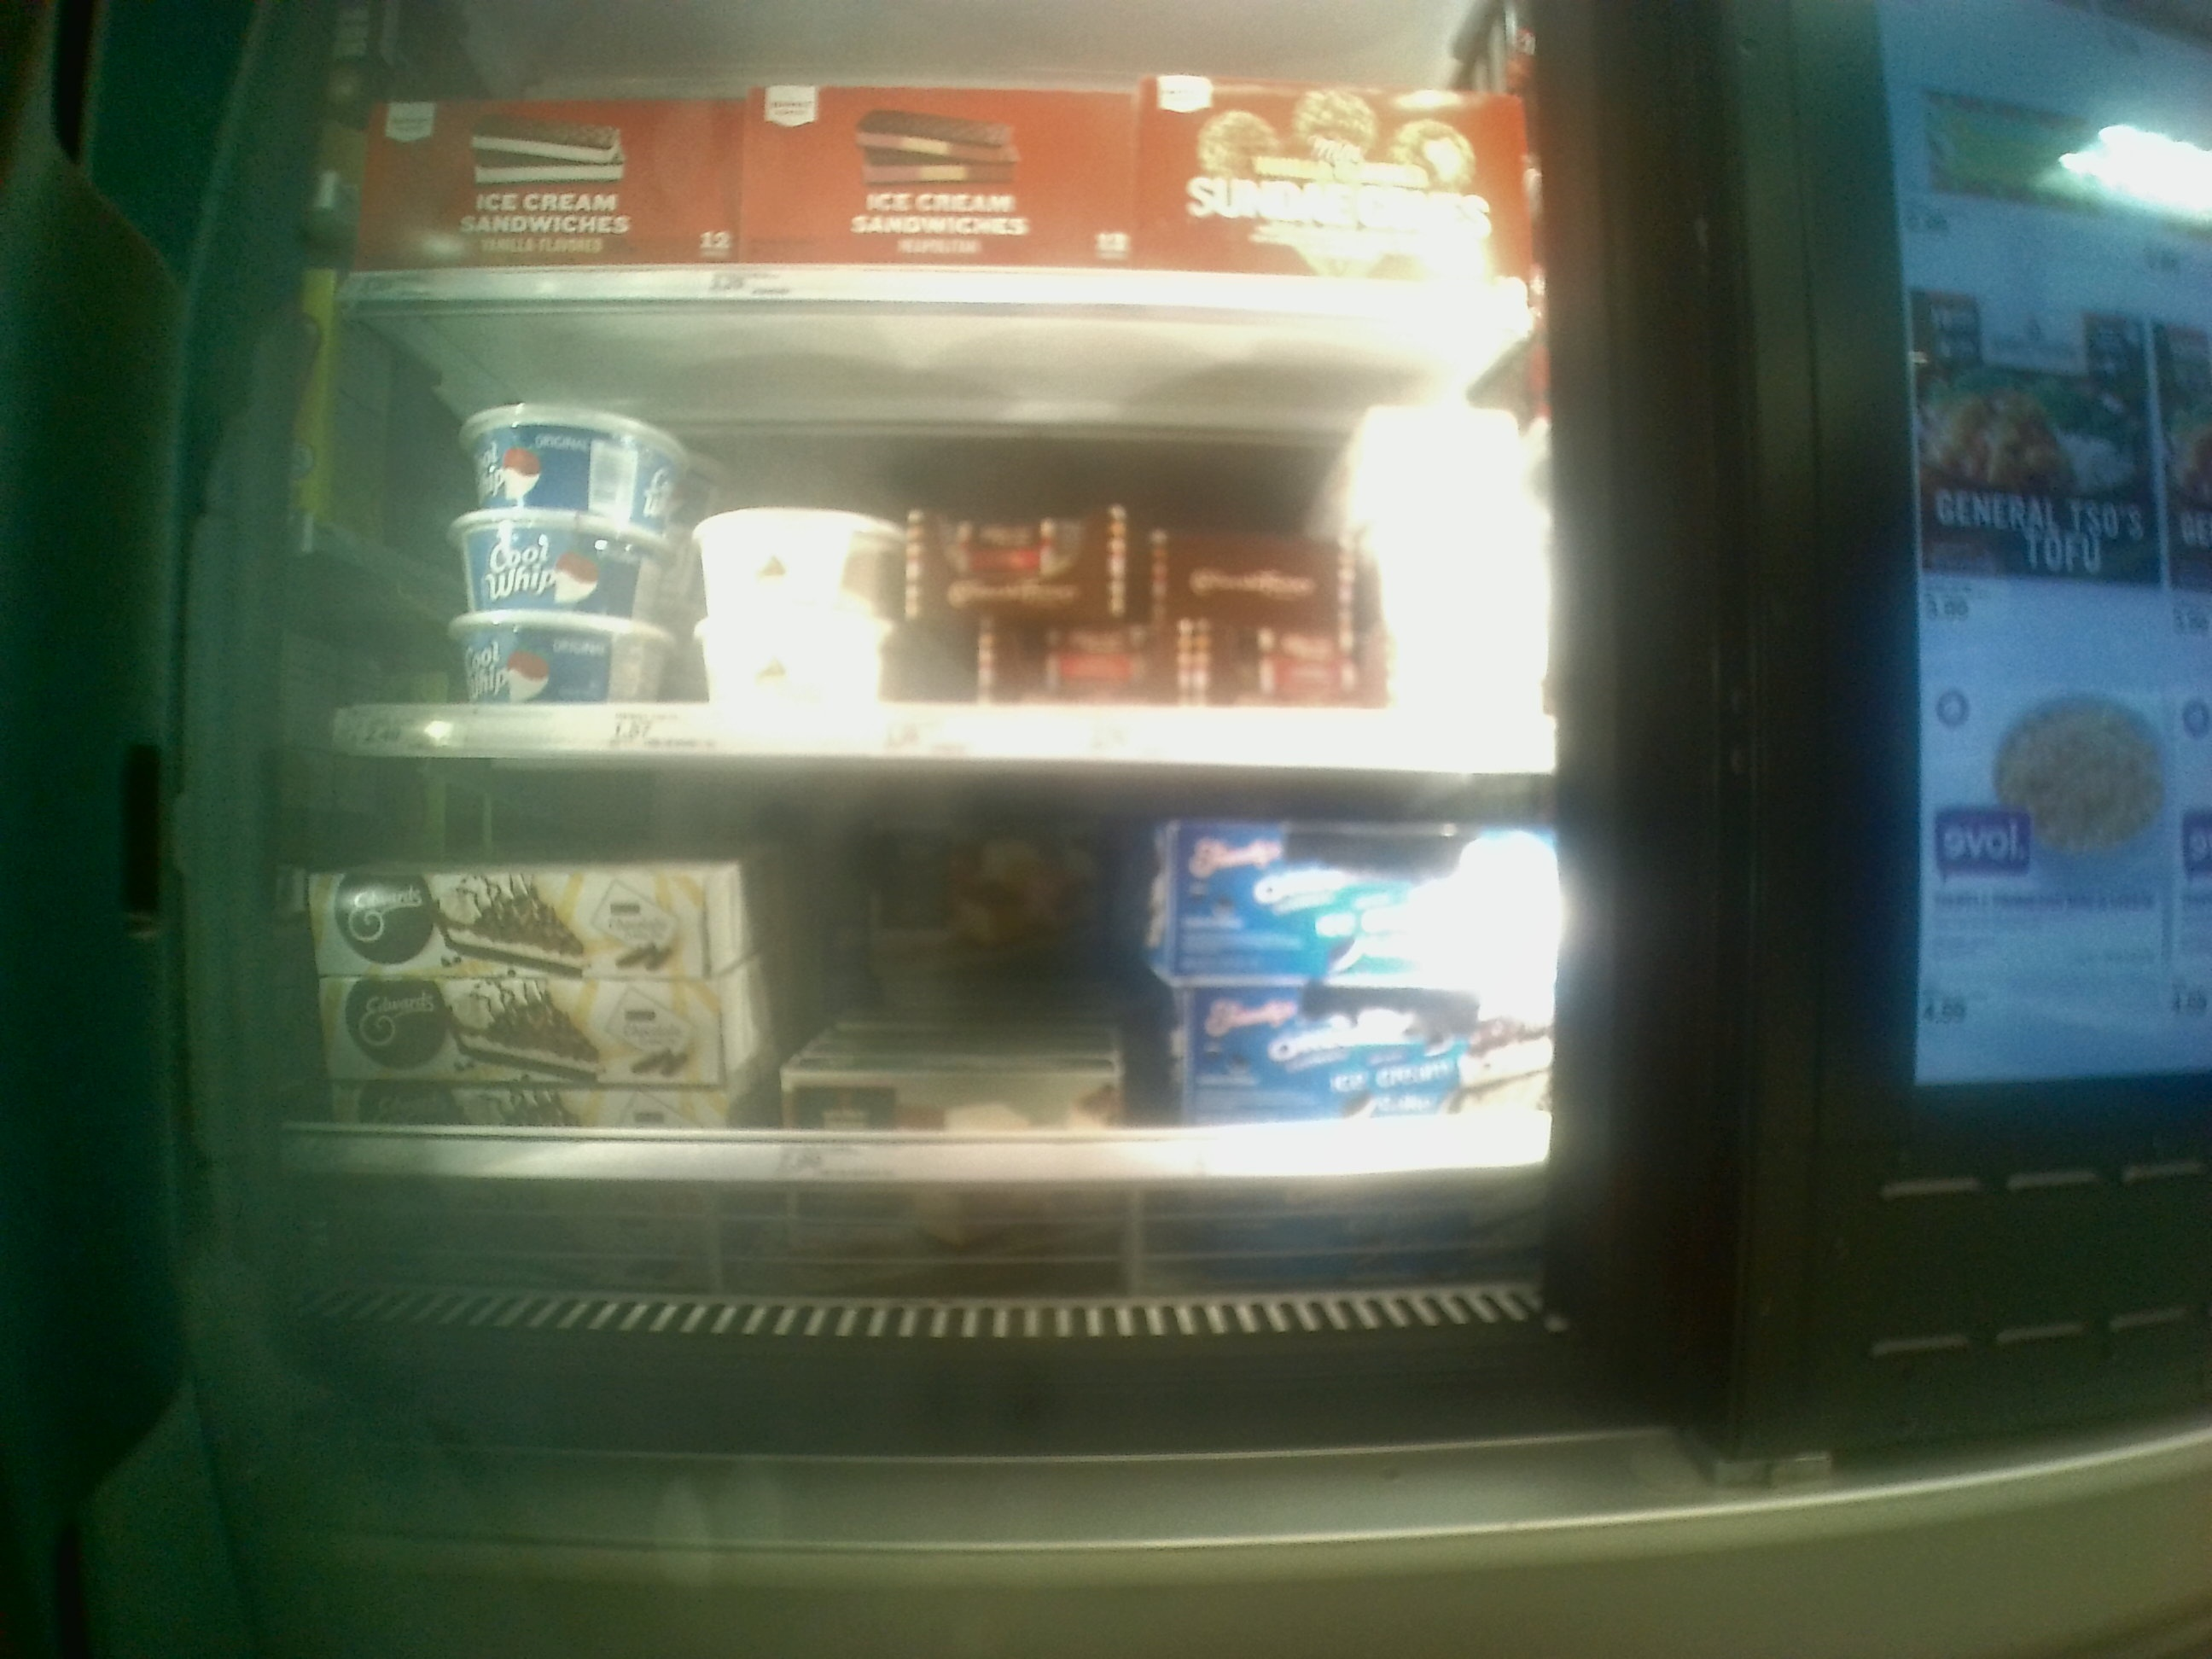frozen-food-shelf: (319, 317, 1578, 779), (254, 788, 1571, 1185)
